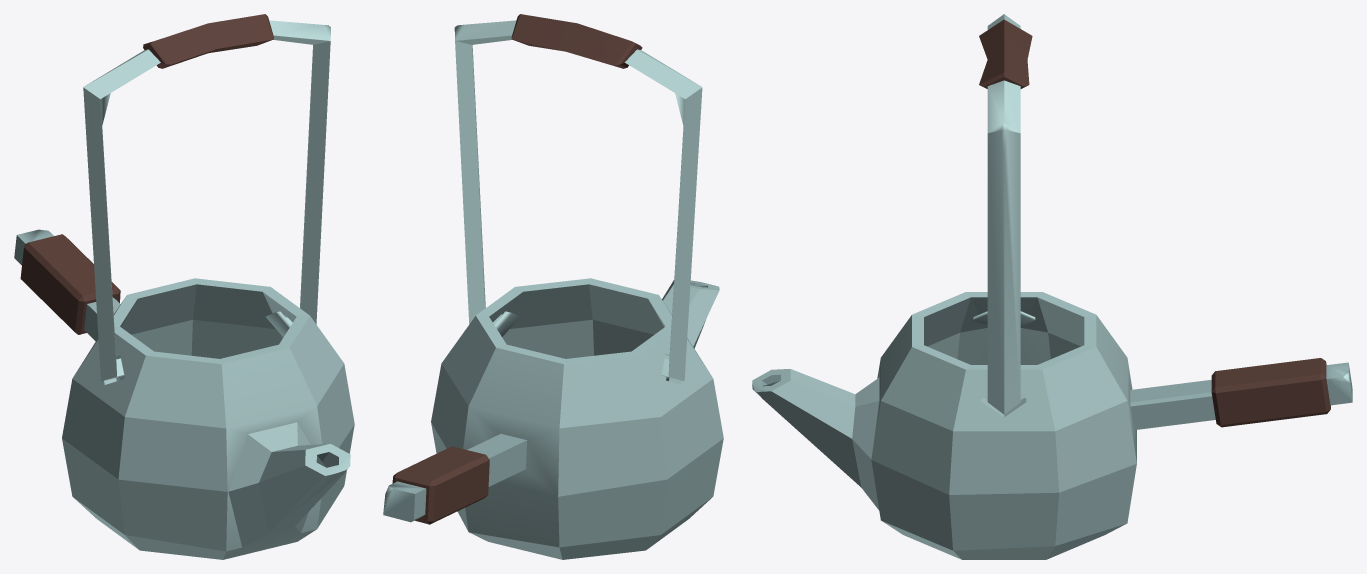
The model's file is SM_Item_Tea_Pot_01.fbx.
The picture shows the model from 3 angles, left to right: view 1: azimuth 30°, elevation 25°; view 2: azimuth 150°, elevation 25°; view 3: azimuth 270°, elevation 25°; orthographic projection. The views are drawn at different scales.
Visible parts, largest first — view 1: SM_Item_Tea_Pot_01; view 2: SM_Item_Tea_Pot_01; view 3: SM_Item_Tea_Pot_01.
Boxes of the visible parts, bbox=[...] form: SM_Item_Tea_Pot_01: bbox=[14, 14, 354, 559]; SM_Item_Tea_Pot_01: bbox=[383, 14, 723, 559]; SM_Item_Tea_Pot_01: bbox=[752, 14, 1352, 559].
Bounding box in the file's own units: 0.2951 × 0.5601 × 0.6398.
Materials: 1 (1 with a texture image).
